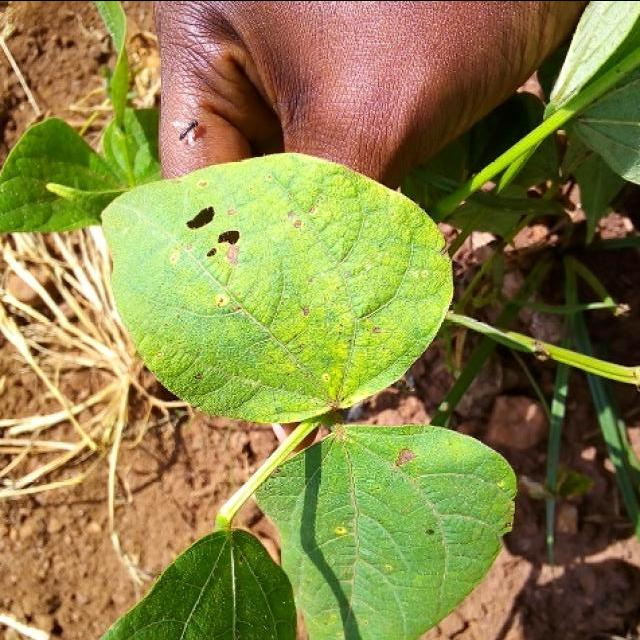mozaik: (165, 182, 263, 289)
